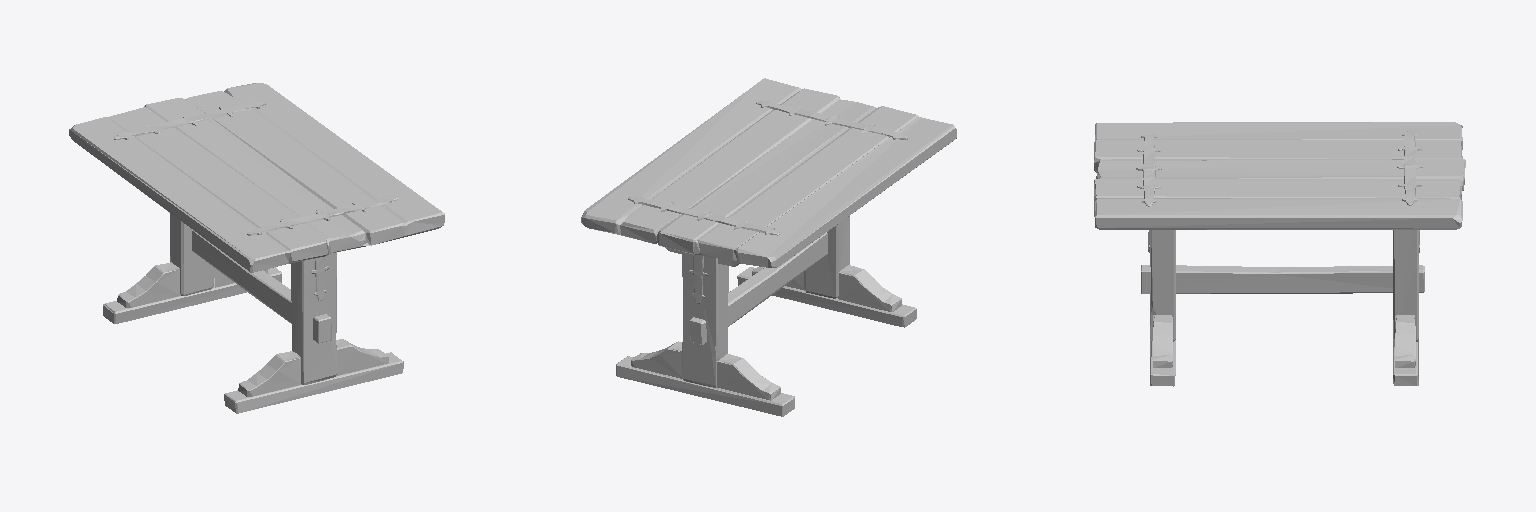
Rendered from table.obj.
The picture shows the model from 3 angles: view 1: azimuth 30°, elevation 25°; view 2: azimuth 150°, elevation 25°; view 3: azimuth 270°, elevation 25°; orthographic projection.
Parts seen in each view (by area): view 1: obj6, obj2, obj3, obj4, obj5, obj1; view 2: obj6, obj2, obj3, obj4, obj5, obj1; view 3: obj6, obj5, obj2, obj3, obj1, obj4.
Part boxes in pixels (x1,y1,x2,y2): obj6: (69,83,444,272); obj2: (170,213,336,384); obj3: (117,262,388,396); obj4: (103,267,403,413); obj5: (192,230,331,343); obj1: (114,101,398,300); obj6: (581,78,956,267); obj2: (682,216,849,387); obj3: (631,247,901,400); obj4: (616,267,916,416); obj5: (690,232,827,344); obj1: (628,101,907,303); obj6: (1094,122,1465,229); obj5: (1141,265,1424,293); obj2: (1150,230,1418,341); obj3: (1153,315,1415,367); obj1: (1136,130,1422,252); obj4: (1150,336,1418,386).
Bounding box in the file's own units: 1.21 × 1.06 × 2.